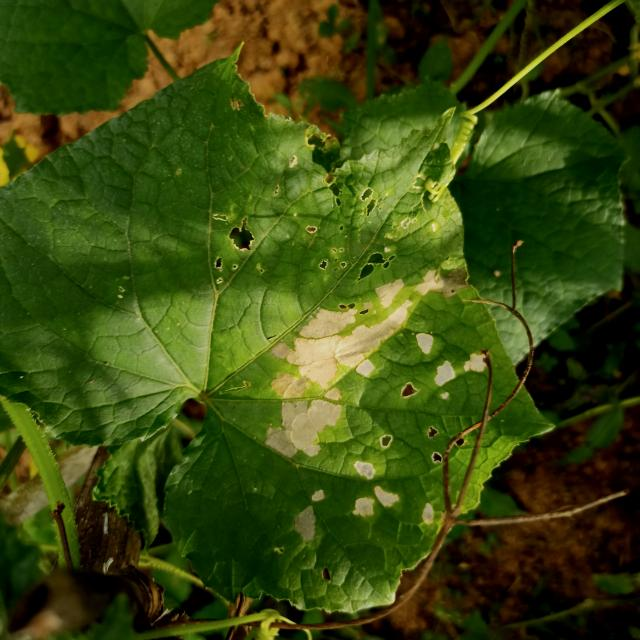disease_cucumber: (262, 265, 489, 544)
